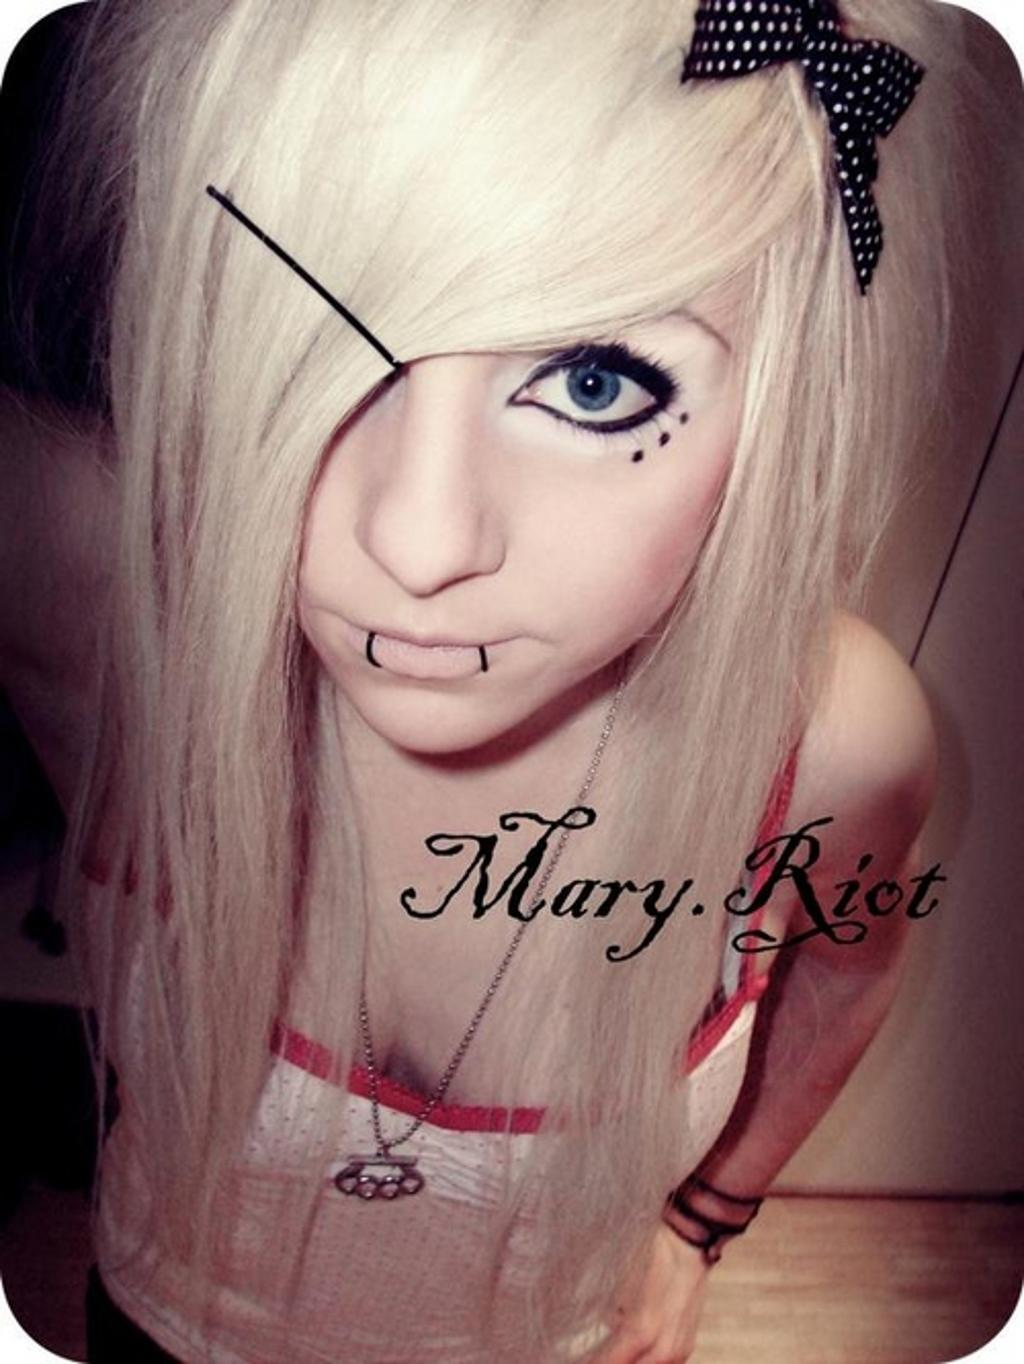face: (238, 81, 763, 761)
